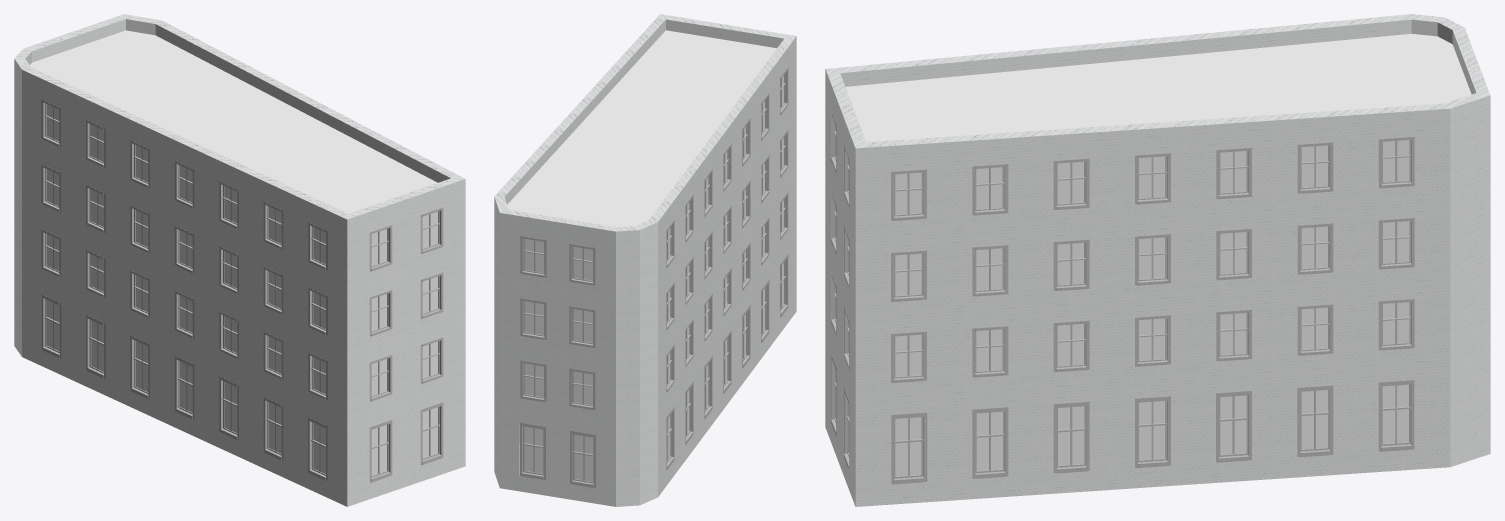
The model's file is clohc0dha03fd4p02gtf8bmqe_0.glb.
3 views of the same model, side by side, from view 1: azimuth 30°, elevation 25°; view 2: azimuth 150°, elevation 25°; view 3: azimuth 270°, elevation 25° (orthographic). The views are drawn at different scales.
Parts seen in each view (by area): view 1: mesh_Brick, mesh_CityEnginePBRShader, mesh_Rim, mesh_Glass; view 2: mesh_Brick, mesh_CityEnginePBRShader, mesh_Rim, mesh_Glass; view 3: mesh_Brick, mesh_CityEnginePBRShader, mesh_Rim, mesh_Glass.
Part boxes in pixels (box(x1,y1,x2,y2)): mesh_Brick: box(14, 14, 465, 506); mesh_CityEnginePBRShader: box(30, 30, 437, 213); mesh_Rim: box(41, 99, 443, 482); mesh_Glass: box(46, 104, 437, 475); mesh_Brick: box(494, 14, 796, 506); mesh_CityEnginePBRShader: box(507, 30, 776, 227); mesh_Rim: box(520, 67, 788, 487); mesh_Glass: box(524, 75, 783, 481); mesh_Brick: box(825, 14, 1490, 506); mesh_CityEnginePBRShader: box(845, 33, 1471, 141); mesh_Rim: box(831, 111, 1414, 484); mesh_Glass: box(895, 140, 1409, 476).
Bounding box in the file's own units: 12.25 × 15.23 × 25.6.
4 materials, 1 textured.
